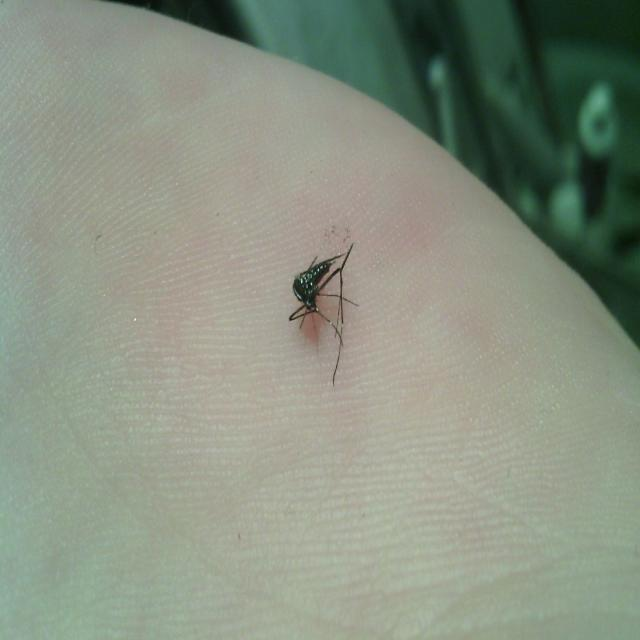albopictus: (286, 233, 360, 386)
